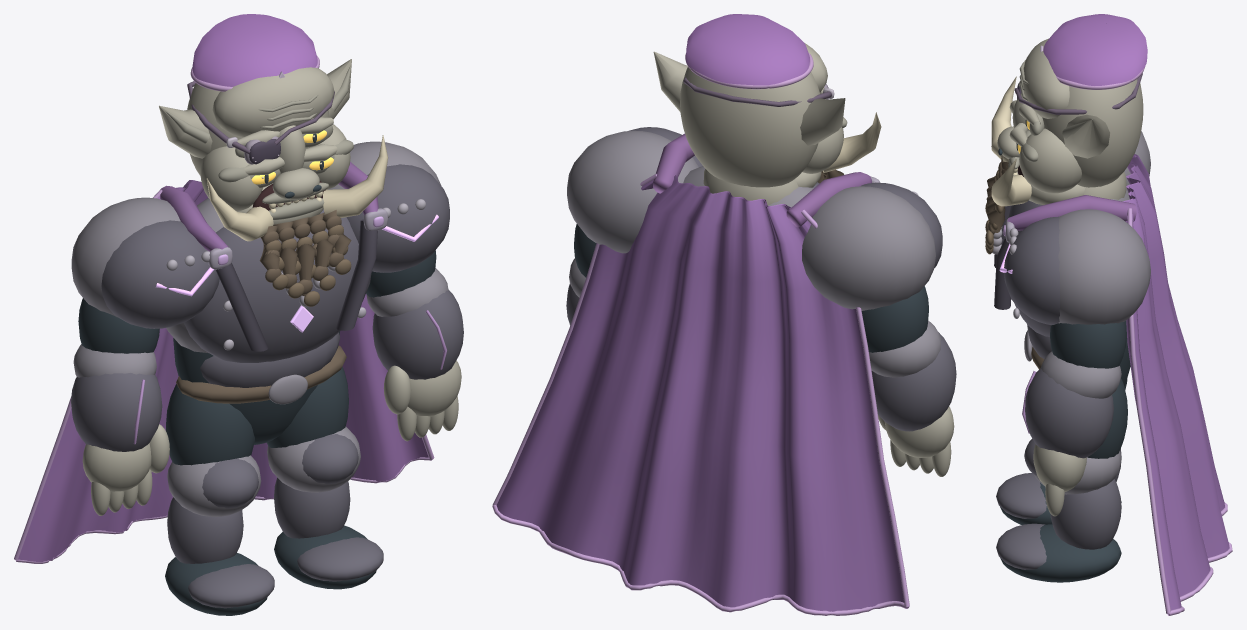
Rendered from AM_GREK_Mirror_Universe.glb.
3 renders of one model, left to right at view 1: azimuth 30°, elevation 25°; view 2: azimuth 150°, elevation 25°; view 3: azimuth 270°, elevation 25°, orthographic. The views are drawn at different scales.
Parts seen in each view (by area): view 1: Deep purple satin lining, breastplate, shoulder plate -1, Tailored purple cap, shoulder plate 1, gauntlet -1, gauntlet 1, forehead, thigh -1, shoulder rim -1, shin -1, shin 1 (+40 smaller); view 2: Purple woven outer cape, shoulder rim -1, cranium, shoulder rim 1, Tailored purple cap, gauntlet -1, upper arm -1, Finished hem, elbow -1, Left cape seam, hand -1, pointed ear -1 (+12 smaller); view 3: Purple woven outer cape, shoulder rim 1, Tailored purple cap, gauntlet 1, cranium, shoulder plate 1, shin 1, boot 1, upper arm 1, cheek 1, elbow 1, forehead (+23 smaller).
Boxes of the visible parts, x1,y1,x2,y2 form: Deep purple satin lining: [18, 181, 428, 561]; breastplate: [184, 209, 371, 362]; shoulder plate -1: [101, 220, 219, 328]; Tailored purple cap: [192, 14, 317, 86]; shoulder plate 1: [346, 164, 449, 272]; gauntlet -1: [71, 373, 162, 451]; gauntlet 1: [372, 289, 463, 379]; forehead: [212, 67, 334, 136]; thigh -1: [166, 384, 254, 465]; shoulder rim -1: [71, 197, 180, 317]; shin -1: [167, 497, 243, 563]; shin 1: [274, 477, 350, 538]; Purple woven outer cape: [496, 176, 903, 611]; shoulder rim -1: [802, 186, 935, 310]; cranium: [680, 67, 819, 187]; shoulder rim 1: [567, 130, 698, 253]; Tailored purple cap: [685, 14, 809, 85]; gauntlet -1: [871, 332, 956, 431]; upper arm -1: [861, 286, 928, 352]; Finished hem: [492, 505, 908, 615]; elbow -1: [869, 320, 941, 377]; Left cape seam: [801, 209, 909, 606]; hand -1: [885, 406, 954, 457]; pointed ear -1: [800, 98, 845, 145]; Purple woven outer cape: [1124, 154, 1229, 610]; shoulder rim 1: [1058, 209, 1150, 324]; Tailored purple cap: [1043, 14, 1147, 85]; gauntlet 1: [1025, 368, 1113, 458]; cranium: [1042, 78, 1143, 187]; shoulder plate 1: [1004, 216, 1059, 325]; shin 1: [1050, 479, 1121, 549]; boot 1: [1000, 524, 1121, 582]; upper arm 1: [1050, 321, 1126, 368]; cheek 1: [1019, 128, 1081, 193]; elbow 1: [1040, 351, 1121, 398]; forehead: [1023, 38, 1069, 118].
Bounding box in the file's own units: 3.62 × 4.55 × 1.93.
